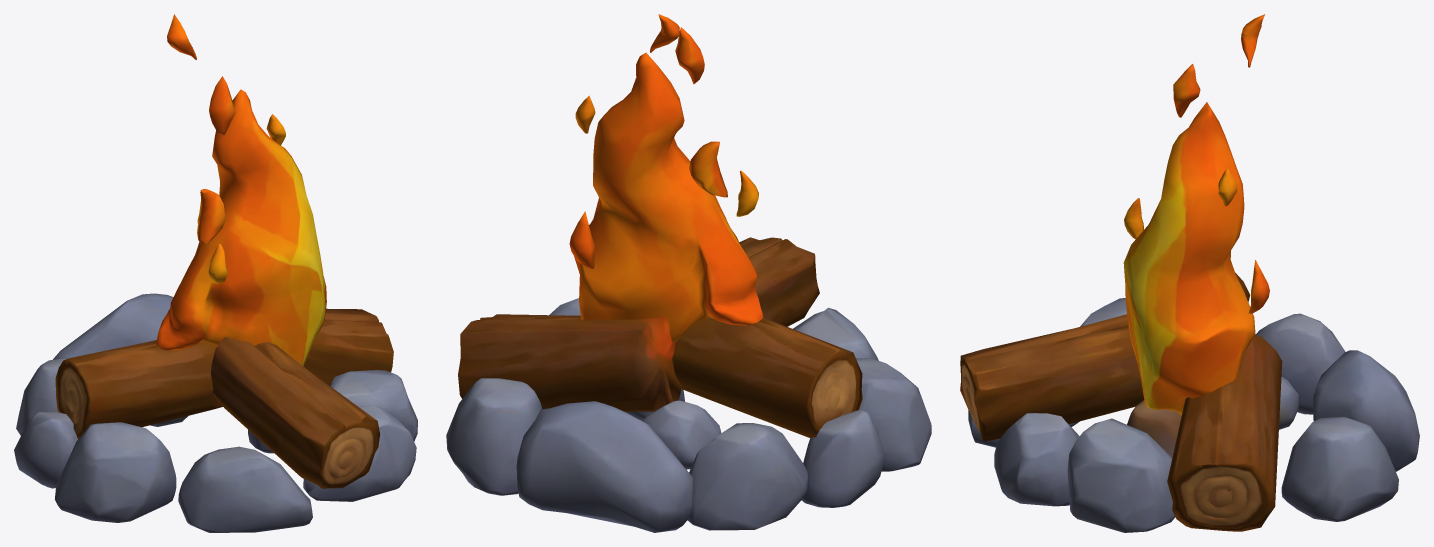
The model's file is feu_camp.glb.
3 renders of one model, left to right at view 1: azimuth 30°, elevation 25°; view 2: azimuth 150°, elevation 25°; view 3: azimuth 270°, elevation 25°, orthographic. The views are drawn at different scales.
Parts seen in each view (by area): view 1: geometry_0; view 2: geometry_0; view 3: geometry_0.
Boxes of the visible parts, x1=… form: geometry_0: x1=14, y1=14, x2=417, y2=532; geometry_0: x1=446, y1=14, x2=931, y2=532; geometry_0: x1=960, y1=14, x2=1419, y2=532.
Size of the model in its own units: 0.8735 by 0.9507 by 0.9151.
Materials: 1 (1 with a texture image).
